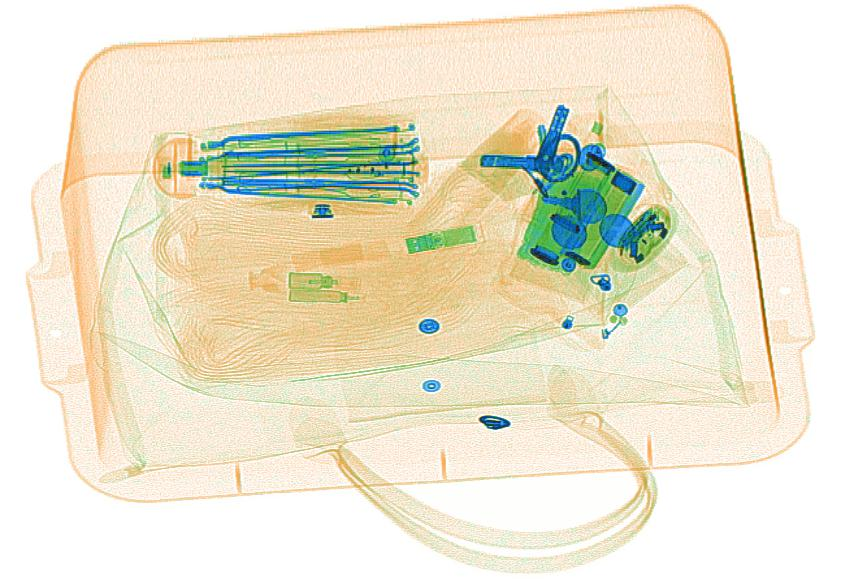USBFlashDisk: (404, 222, 477, 252)
